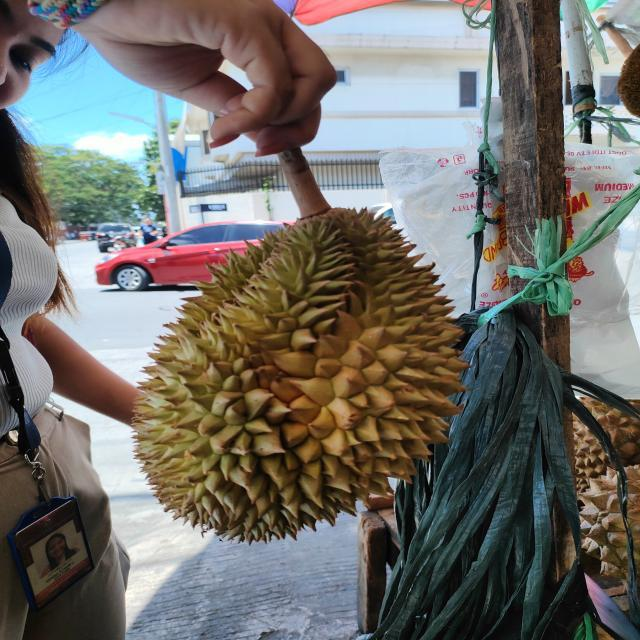mature: (129, 208, 476, 546)
